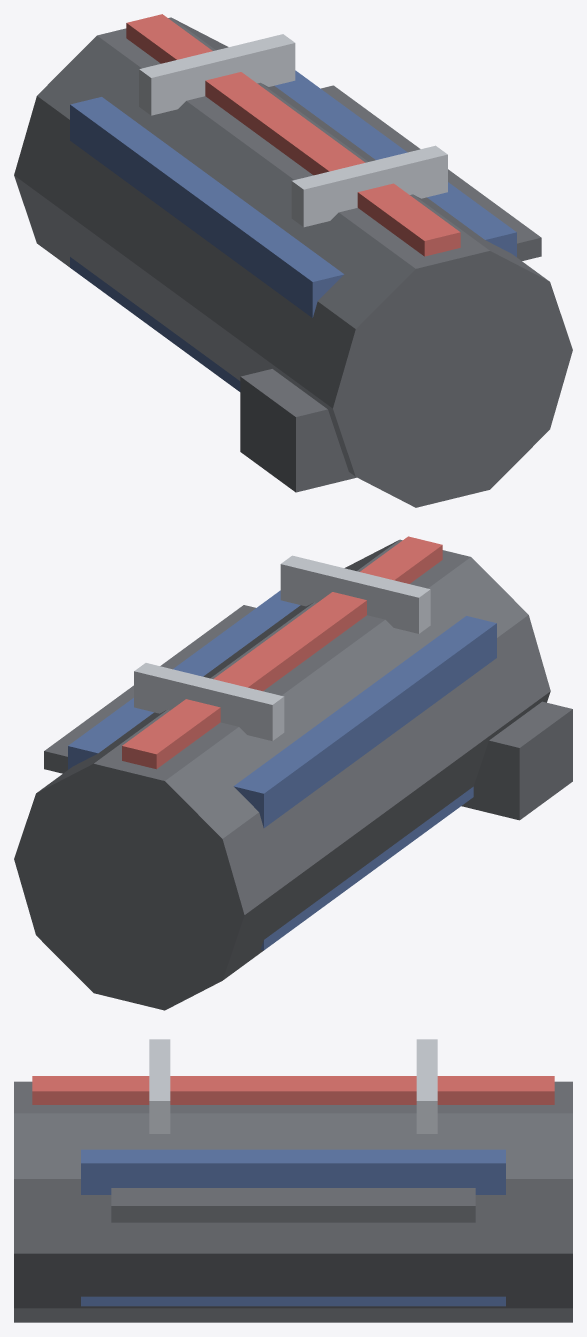
Rendered from baseball-park-and-batting-cages-equipment-bag-5290eade__33774.glb.
3 views of the same model, one above another, from view 1: azimuth 30°, elevation 25°; view 2: azimuth 150°, elevation 25°; view 3: azimuth 270°, elevation 25° (orthographic). The views are drawn at different scales.
Parts seen in each view (by area): view 1: equipment-bag; view 2: equipment-bag; view 3: equipment-bag.
Part boxes in pixels (box(x1,y1,x2,y2)): equipment-bag: box(14, 14, 572, 507); equipment-bag: box(14, 536, 572, 1010); equipment-bag: box(14, 1039, 572, 1322).
Size of the model in its own units: 0.4901 by 0.4302 by 0.92.
